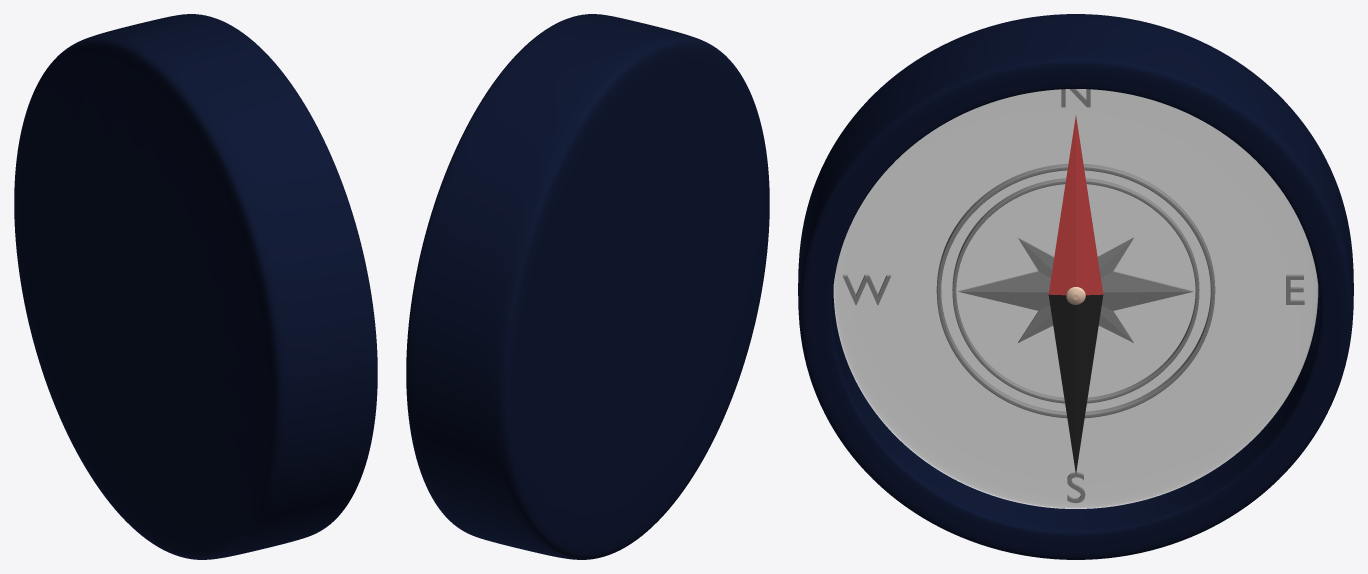
The model's file is compass.glb.
3 views of the same model, side by side, from view 1: azimuth 30°, elevation 25°; view 2: azimuth 150°, elevation 25°; view 3: azimuth 270°, elevation 25° (orthographic). The views are drawn at different scales.
Parts seen in each view (by area): view 1: Cylinder; view 2: Cylinder; view 3: Cylinder, Cylinder.001, Cylinder.003, Circle, Circle.001, Text.001.
Part boxes in pixels (x1,y1,x2,y2): Cylinder: [14, 14, 377, 559]; Cylinder: [406, 14, 769, 559]; Cylinder: [798, 14, 1353, 559]; Cylinder.001: [1048, 116, 1103, 473]; Cylinder.003: [958, 237, 1193, 342]; Circle: [936, 163, 1215, 418]; Circle.001: [952, 178, 1199, 403]; Text.001: [842, 89, 1304, 503].
Size of the model in its own units: 0.4378 by 1.97 by 1.97.
